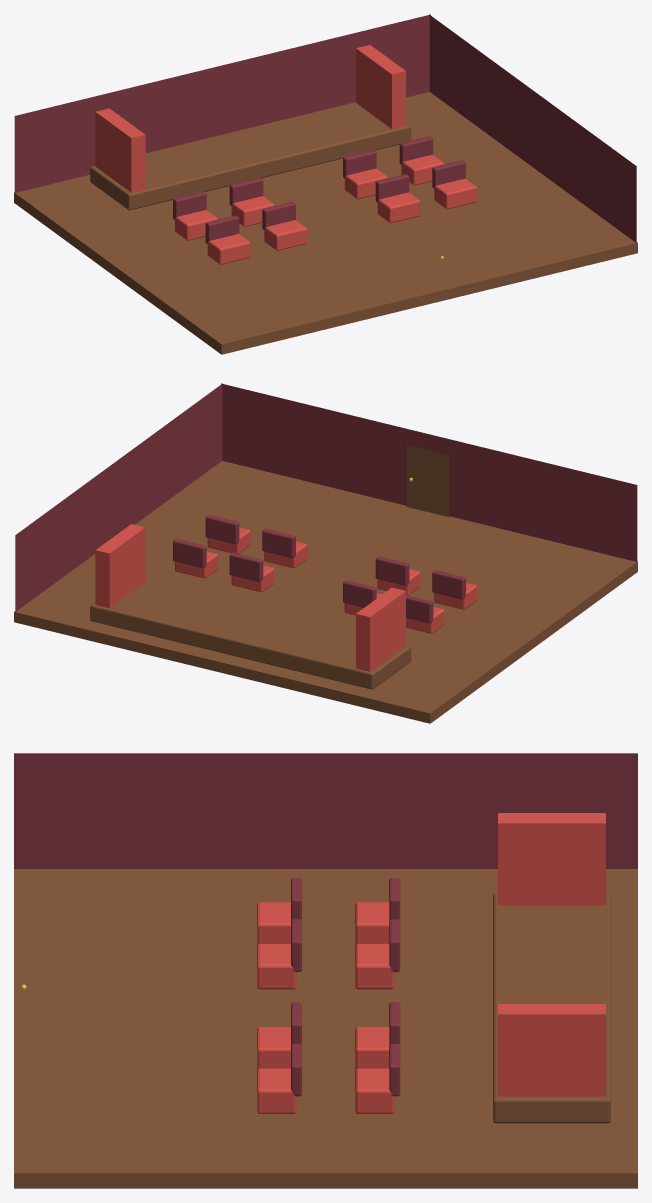
Rendered from room_opera.glb.
3 renders of one model, top to bottom at view 1: azimuth 30°, elevation 25°; view 2: azimuth 150°, elevation 25°; view 3: azimuth 270°, elevation 25°, orthographic. The views are drawn at different scales.
Visible parts, largest first — view 1: RoomO; view 2: RoomO; view 3: RoomO.
Boxes of the visible parts, <box> form: RoomO: <box>14,14,637,354</box>; RoomO: <box>14,383,637,723</box>; RoomO: <box>14,753,637,1188</box>.
Bounding box in the file's own units: 14.7 × 2.95 × 12.7.
